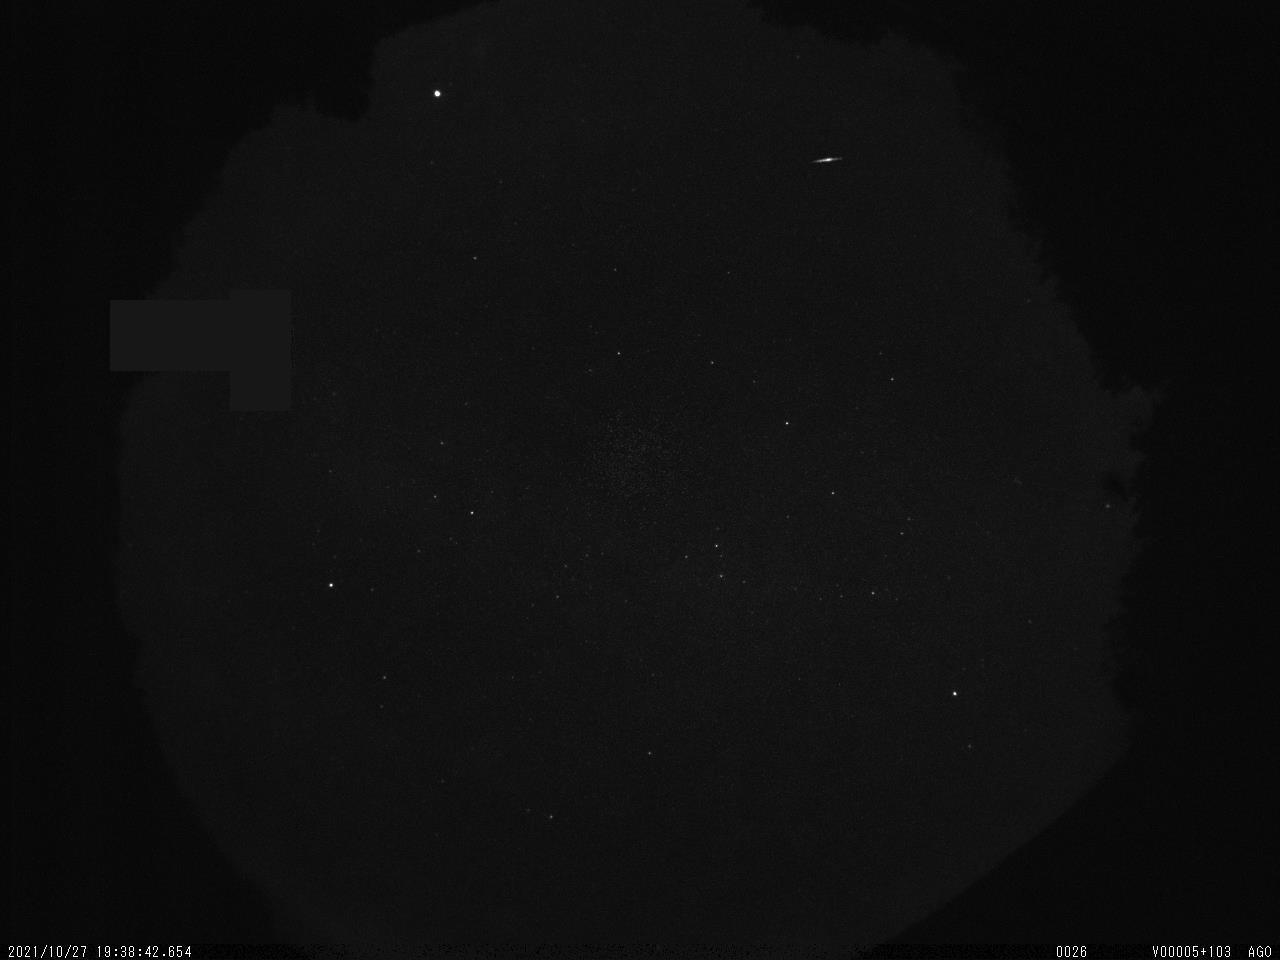meteor: (803, 142, 862, 176)
